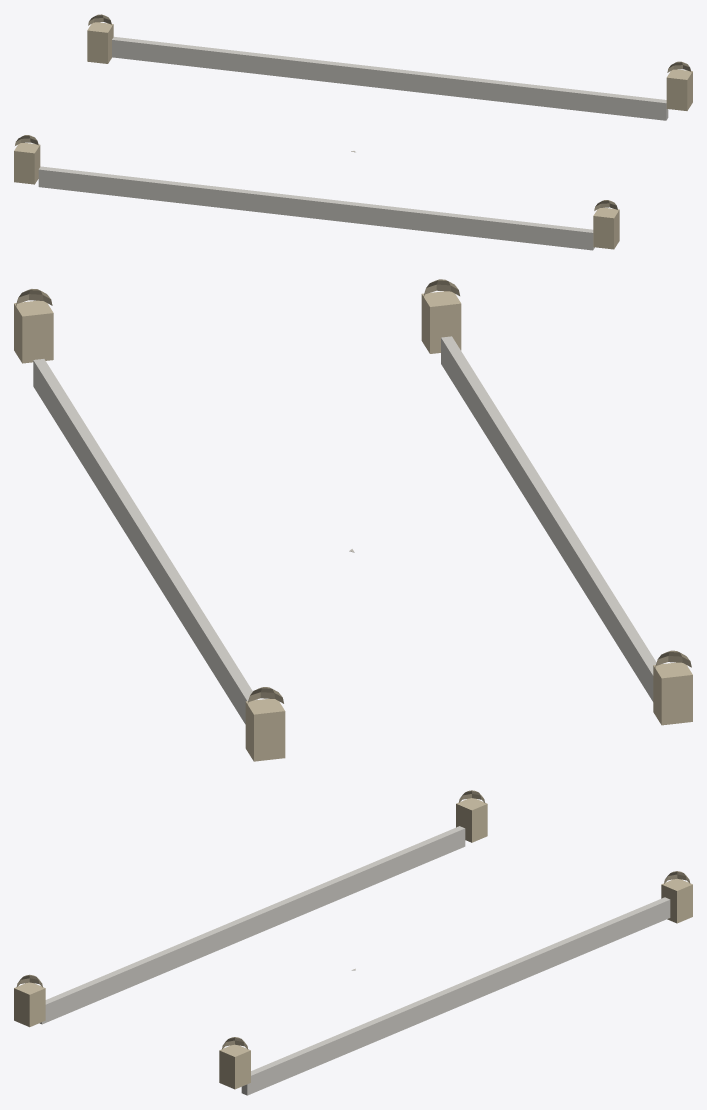
File: lgs_domebridge.glb
3 renders of one model, top to bottom at view 1: azimuth 30°, elevation 25°; view 2: azimuth 150°, elevation 25°; view 3: azimuth 270°, elevation 25°, orthographic. The views are drawn at different scales.
Visible parts, largest first — view 1: lgs_domebridge_lod0; view 2: lgs_domebridge_lod0; view 3: lgs_domebridge_lod0.
Boxes of the visible parts, x1,y1,x2,y2 form: lgs_domebridge_lod0: (14, 14, 692, 250); lgs_domebridge_lod0: (14, 279, 692, 761); lgs_domebridge_lod0: (14, 790, 692, 1095).
Size of what is drawn, in the model's own units: 30.28 by 3.76 by 30.33.
